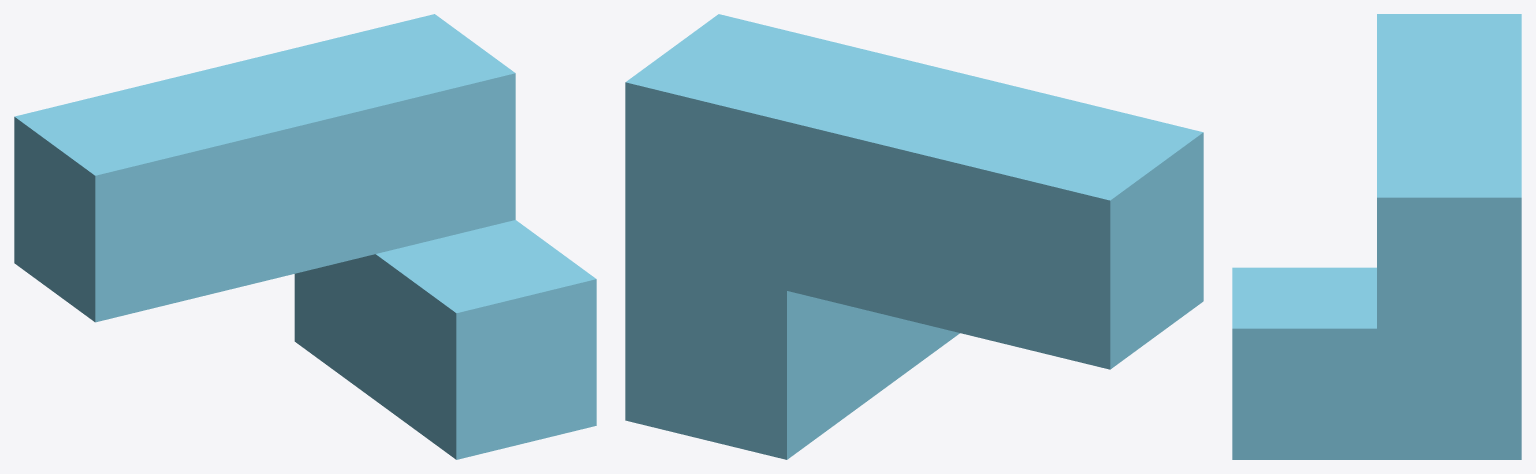
The model's file is one.obj.
The picture shows the model from 3 angles, left to right: view 1: azimuth 30°, elevation 25°; view 2: azimuth 150°, elevation 25°; view 3: azimuth 270°, elevation 25°; orthographic projection. The views are drawn at different scales.
Visible parts, largest first — view 1: one; view 2: one; view 3: one.
Part boxes in pixels (x1=…): one: x1=14, y1=14, x2=596, y2=459; one: x1=625, y1=14, x2=1203, y2=459; one: x1=1232, y1=14, x2=1521, y2=459.
Bounding box in the file's own units: 3 × 2 × 2.
Materials: 1 (1 with a texture image).
